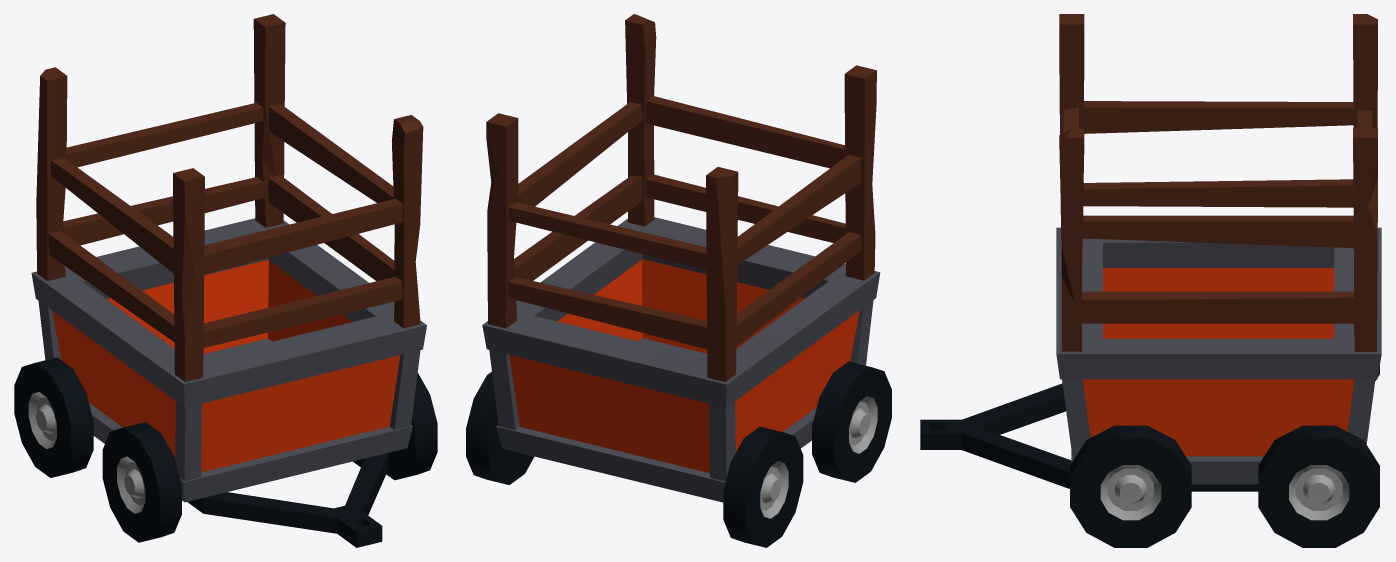
The model's file is Trailer_2.fbx.
3 renders of one model, left to right at view 1: azimuth 30°, elevation 25°; view 2: azimuth 150°, elevation 25°; view 3: azimuth 270°, elevation 25°, orthographic. The views are drawn at different scales.
Visible parts, largest first — view 1: Trailer_2; view 2: Trailer_2; view 3: Trailer_2.
Part boxes in pixels (left/top/right/bottom): Trailer_2: left=14, top=14, right=437, bottom=547; Trailer_2: left=466, top=14, right=891, bottom=547; Trailer_2: left=920, top=14, right=1381, bottom=547.
Bounding box in the file's own units: 61.77 × 78.79 × 82.43.
